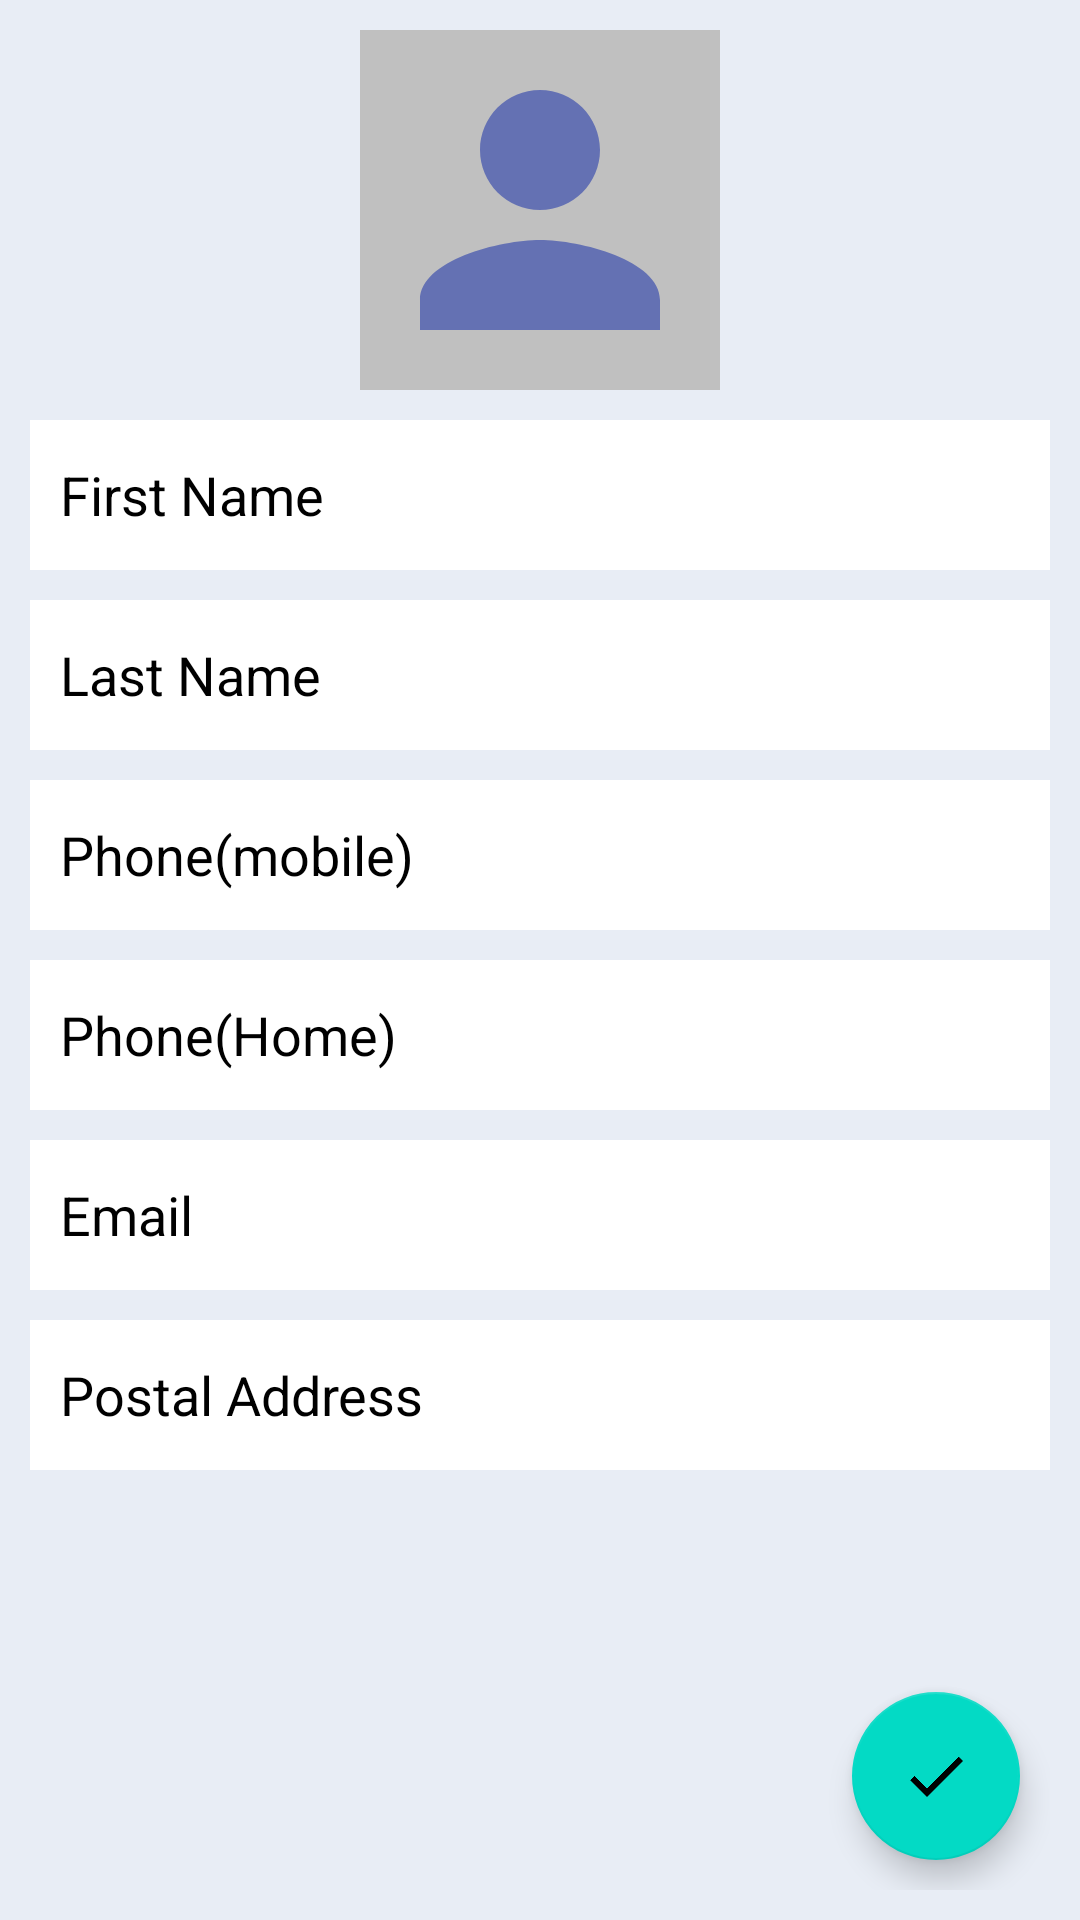

Screen size 1080x1920. Icon name, then its box in pixels as [x1, y1, x2, y2]:
done: [852, 1692, 1020, 1860]
person: [360, 30, 720, 390]
